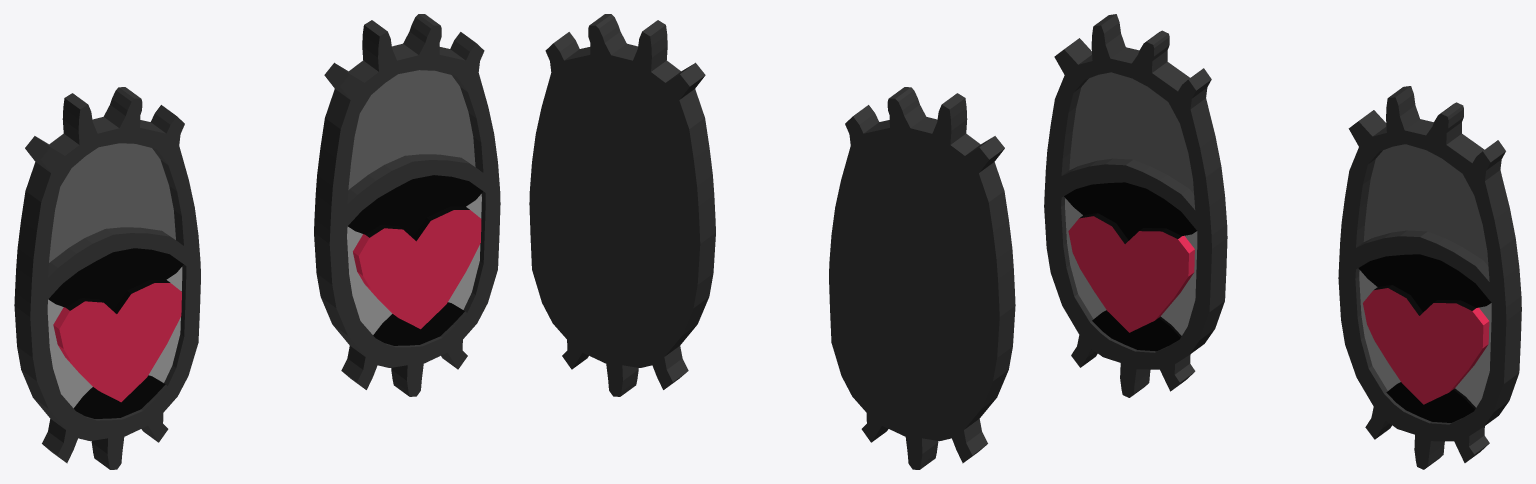
File: eye2.fbx
3 renders of one model, left to right at view 1: azimuth 30°, elevation 25°; view 2: azimuth 150°, elevation 25°; view 3: azimuth 330°, elevation 25°, orthographic.
Visible parts, largest first — view 1: Circle; view 2: Circle; view 3: Circle.
Boxes of the visible parts, x1,y1,x2,y2 form: Circle: (14, 14, 500, 469); Circle: (529, 14, 1015, 469); Circle: (1044, 14, 1521, 469).
Size of the model in its own units: 87.94 by 66.51 by 5.82.
